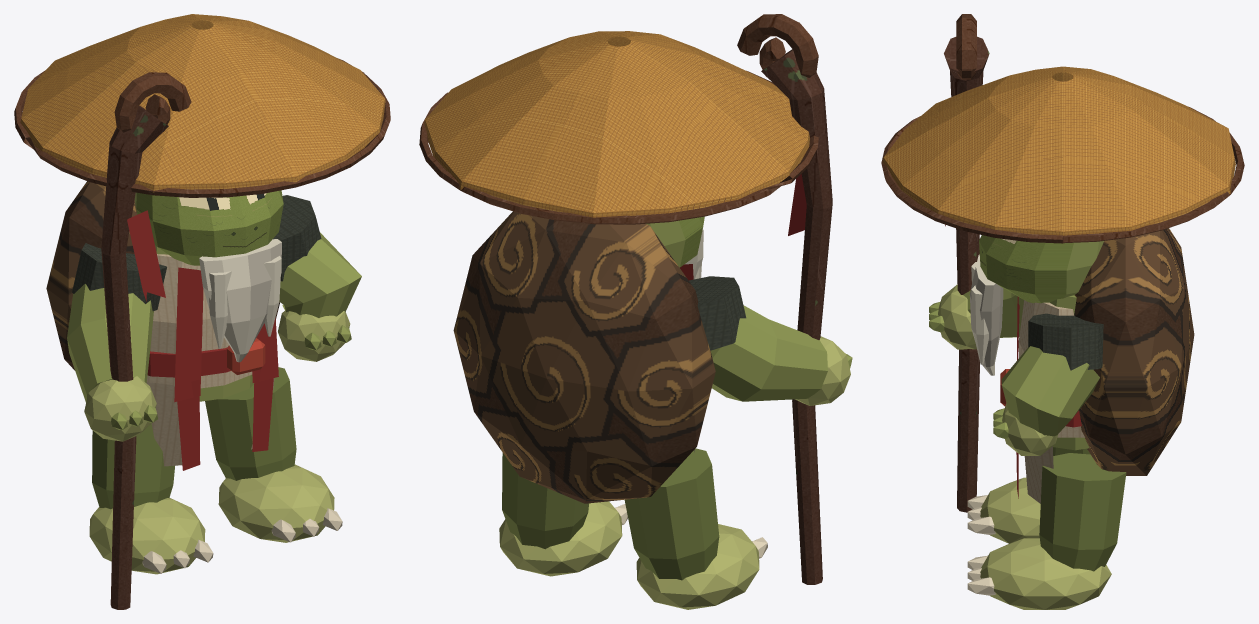
The model's file is jaburanga.glb.
3 views of the same model, side by side, from view 1: azimuth 30°, elevation 25°; view 2: azimuth 150°, elevation 25°; view 3: azimuth 270°, elevation 25° (orthographic). The views are drawn at different scales.
Parts seen in each view (by area): view 1: WovenHat, GnarledStaff, TurtleFace, Leg.001, TurtleFoot.001, MuscularArm, TurtleFoot, Beard, Shell, MuscularArm.001, HatRim, Leg (+18 smaller); view 2: Shell, WovenHat, GnarledStaff, Leg, MuscularArm, TurtleFoot, Leg.001, TurtleFoot.001, HatRim, CarvedCrook, VestShoulder, TurtleFace (+2 smaller); view 3: WovenHat, Shell, Leg.001, TurtleFoot.001, TurtleFace, MuscularArm.001, GnarledStaff, HatRim, VestShoulder.001, TurtleFoot, Beard, TurtleHand (+7 smaller).
Boxes of the visible parts, x1,y1,x2,y2 form: WovenHat: (20, 14, 385, 192); GnarledStaff: (101, 105, 168, 609); TurtleFace: (134, 190, 283, 265); Leg.001: (205, 367, 296, 480); TurtleFoot.001: (218, 464, 334, 542); MuscularArm: (67, 283, 153, 402); TurtleFoot: (89, 497, 205, 574); Beard: (199, 239, 281, 362); Shell: (46, 181, 279, 370); MuscularArm.001: (279, 232, 361, 317); HatRim: (14, 58, 390, 197); Leg: (92, 423, 174, 509); Shell: (453, 211, 715, 503); WovenHat: (424, 31, 809, 217); GnarledStaff: (761, 49, 832, 584); Leg: (624, 448, 719, 580); MuscularArm: (710, 305, 827, 401); TurtleFoot: (636, 524, 759, 609); Leg.001: (502, 453, 589, 549); TurtleFoot.001: (499, 501, 622, 576); HatRim: (419, 70, 818, 224); CarvedCrook: (737, 14, 818, 79); VestShoulder: (689, 276, 746, 350); TurtleFace: (646, 216, 704, 267); WovenHat: (882, 66, 1235, 235); Shell: (1074, 228, 1194, 475); Leg.001: (1039, 453, 1126, 571); TurtleFoot.001: (980, 538, 1111, 609); TurtleFace: (979, 235, 1103, 303); MuscularArm.001: (1001, 346, 1099, 436); GnarledStaff: (944, 36, 989, 512); HatRim: (881, 106, 1244, 243); VestShoulder.001: (1028, 313, 1103, 370); TurtleFoot: (980, 477, 1040, 543); Beard: (969, 254, 1003, 375); TurtleHand: (938, 284, 976, 349).
Size of the model in its own units: 1.19 by 1.84 by 1.19.
Materials: 15 (7 with a texture image).
